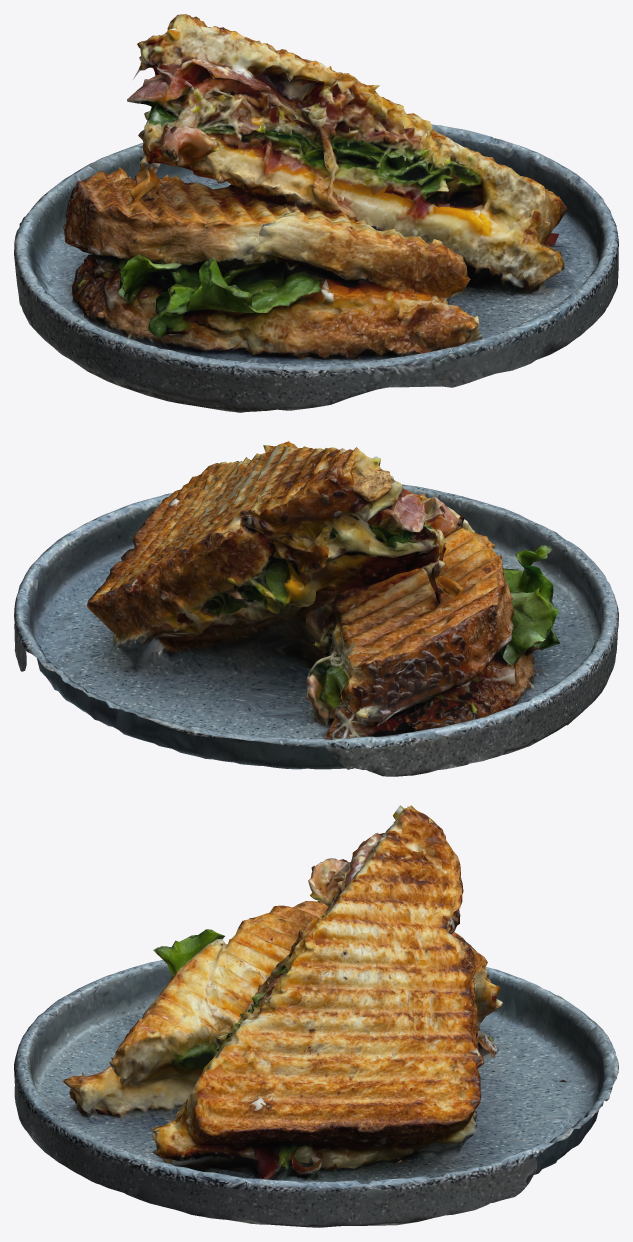
The model's file is bakedsand.glb.
The picture shows the model from 3 angles, top to bottom: view 1: azimuth 30°, elevation 25°; view 2: azimuth 150°, elevation 25°; view 3: azimuth 270°, elevation 25°; orthographic projection.
Parts seen in each view (by area): view 1: group_0; view 2: group_0; view 3: group_0.
Part boxes in pixels (x1=…): group_0: x1=14, y1=14, x2=618, y2=412; group_0: x1=14, y1=441, x2=618, y2=776; group_0: x1=14, y1=805, x2=618, y2=1227.
Bounding box in the file's own units: 0.9699 × 0.4878 × 0.9726.
Materials: 1 (1 with a texture image).
